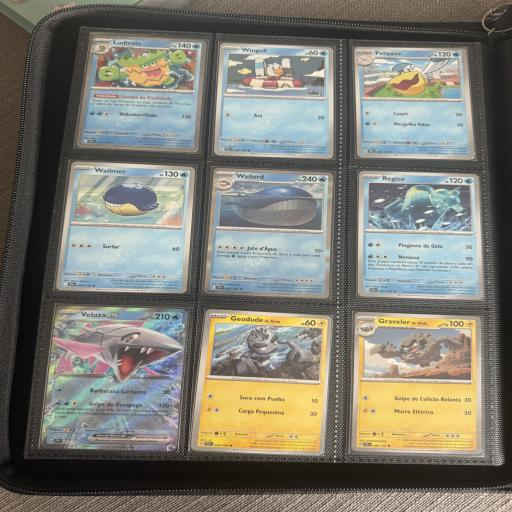card: (40, 304, 189, 452), (190, 308, 333, 456), (351, 311, 485, 454), (54, 160, 195, 294), (203, 167, 334, 299), (356, 170, 485, 300), (75, 34, 207, 153), (213, 42, 337, 160), (351, 46, 478, 160)
